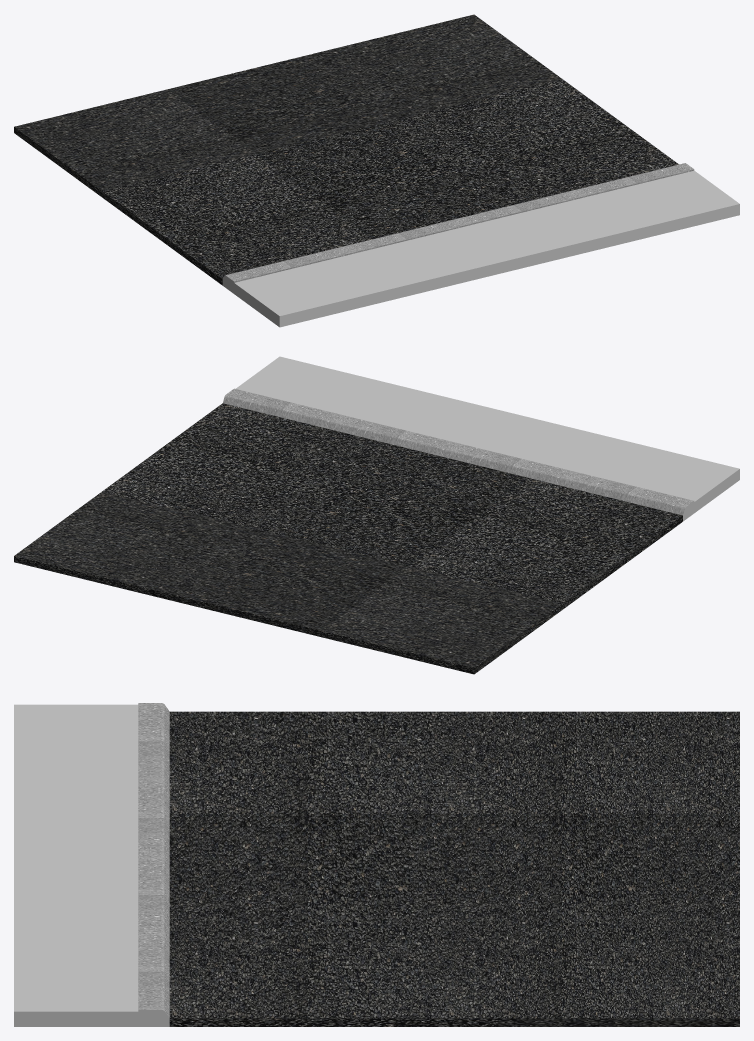
File: tile8.fbx
3 renders of one model, top to bottom at view 1: azimuth 30°, elevation 25°; view 2: azimuth 150°, elevation 25°; view 3: azimuth 270°, elevation 25°, orthographic. The views are drawn at different scales.
Visible parts, largest first — view 1: Cube; view 2: Cube; view 3: Cube.
Part boxes in pixels (bbox=[...]): Cube: bbox=[14, 14, 739, 327]; Cube: bbox=[14, 356, 739, 674]; Cube: bbox=[14, 703, 739, 1026].
Bounding box in the file's own units: 600 × 15.53 × 600.
